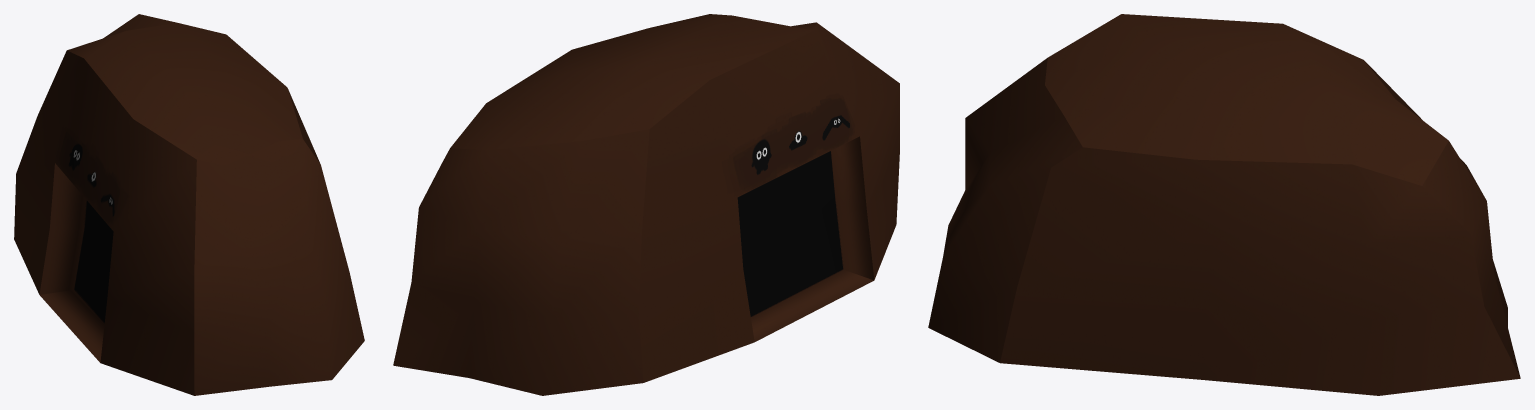
Rendered from caveentrancev2.fbx.
3 renders of one model, left to right at view 1: azimuth 30°, elevation 25°; view 2: azimuth 150°, elevation 25°; view 3: azimuth 270°, elevation 25°, orthographic. The views are drawn at different scales.
Parts seen in each view (by area): view 1: CaveEntrance; view 2: CaveEntrance; view 3: CaveEntrance.
Part boxes in pixels (x1,y1,x2,y2): CaveEntrance: (14, 14, 364, 395); CaveEntrance: (393, 14, 899, 395); CaveEntrance: (928, 14, 1520, 395).
Size of the model in its own units: 10.33 by 8.28 by 16.83.
1 material, 1 textured.
